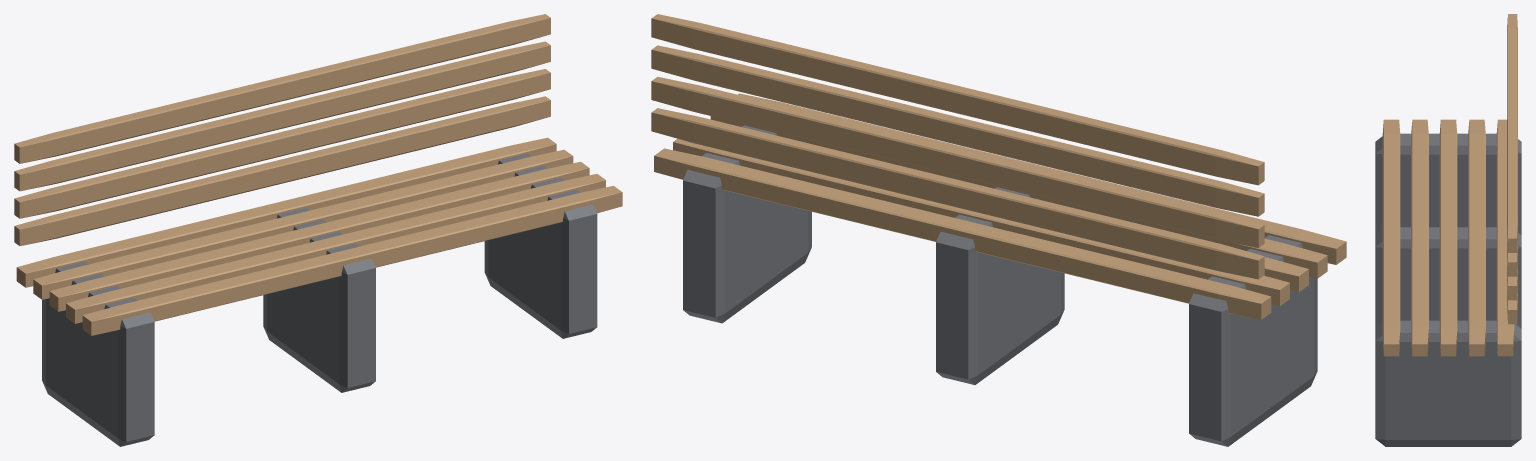
File: b01_rustic_split_log_bench.glb
The picture shows the model from 3 angles, left to right: view 1: azimuth 30°, elevation 25°; view 2: azimuth 150°, elevation 25°; view 3: azimuth 270°, elevation 25°; orthographic projection. The views are drawn at different scales.
Visible parts, largest first — view 1: b01_rustic_split_log_bench; view 2: b01_rustic_split_log_bench; view 3: b01_rustic_split_log_bench.
Part boxes in pixels (box(x1,y1,x2,y2)): b01_rustic_split_log_bench: box(14, 14, 622, 446); b01_rustic_split_log_bench: box(651, 14, 1346, 446); b01_rustic_split_log_bench: box(1375, 14, 1521, 446).
Bounding box in the file's own units: 2.1 × 0.969 × 0.577.
